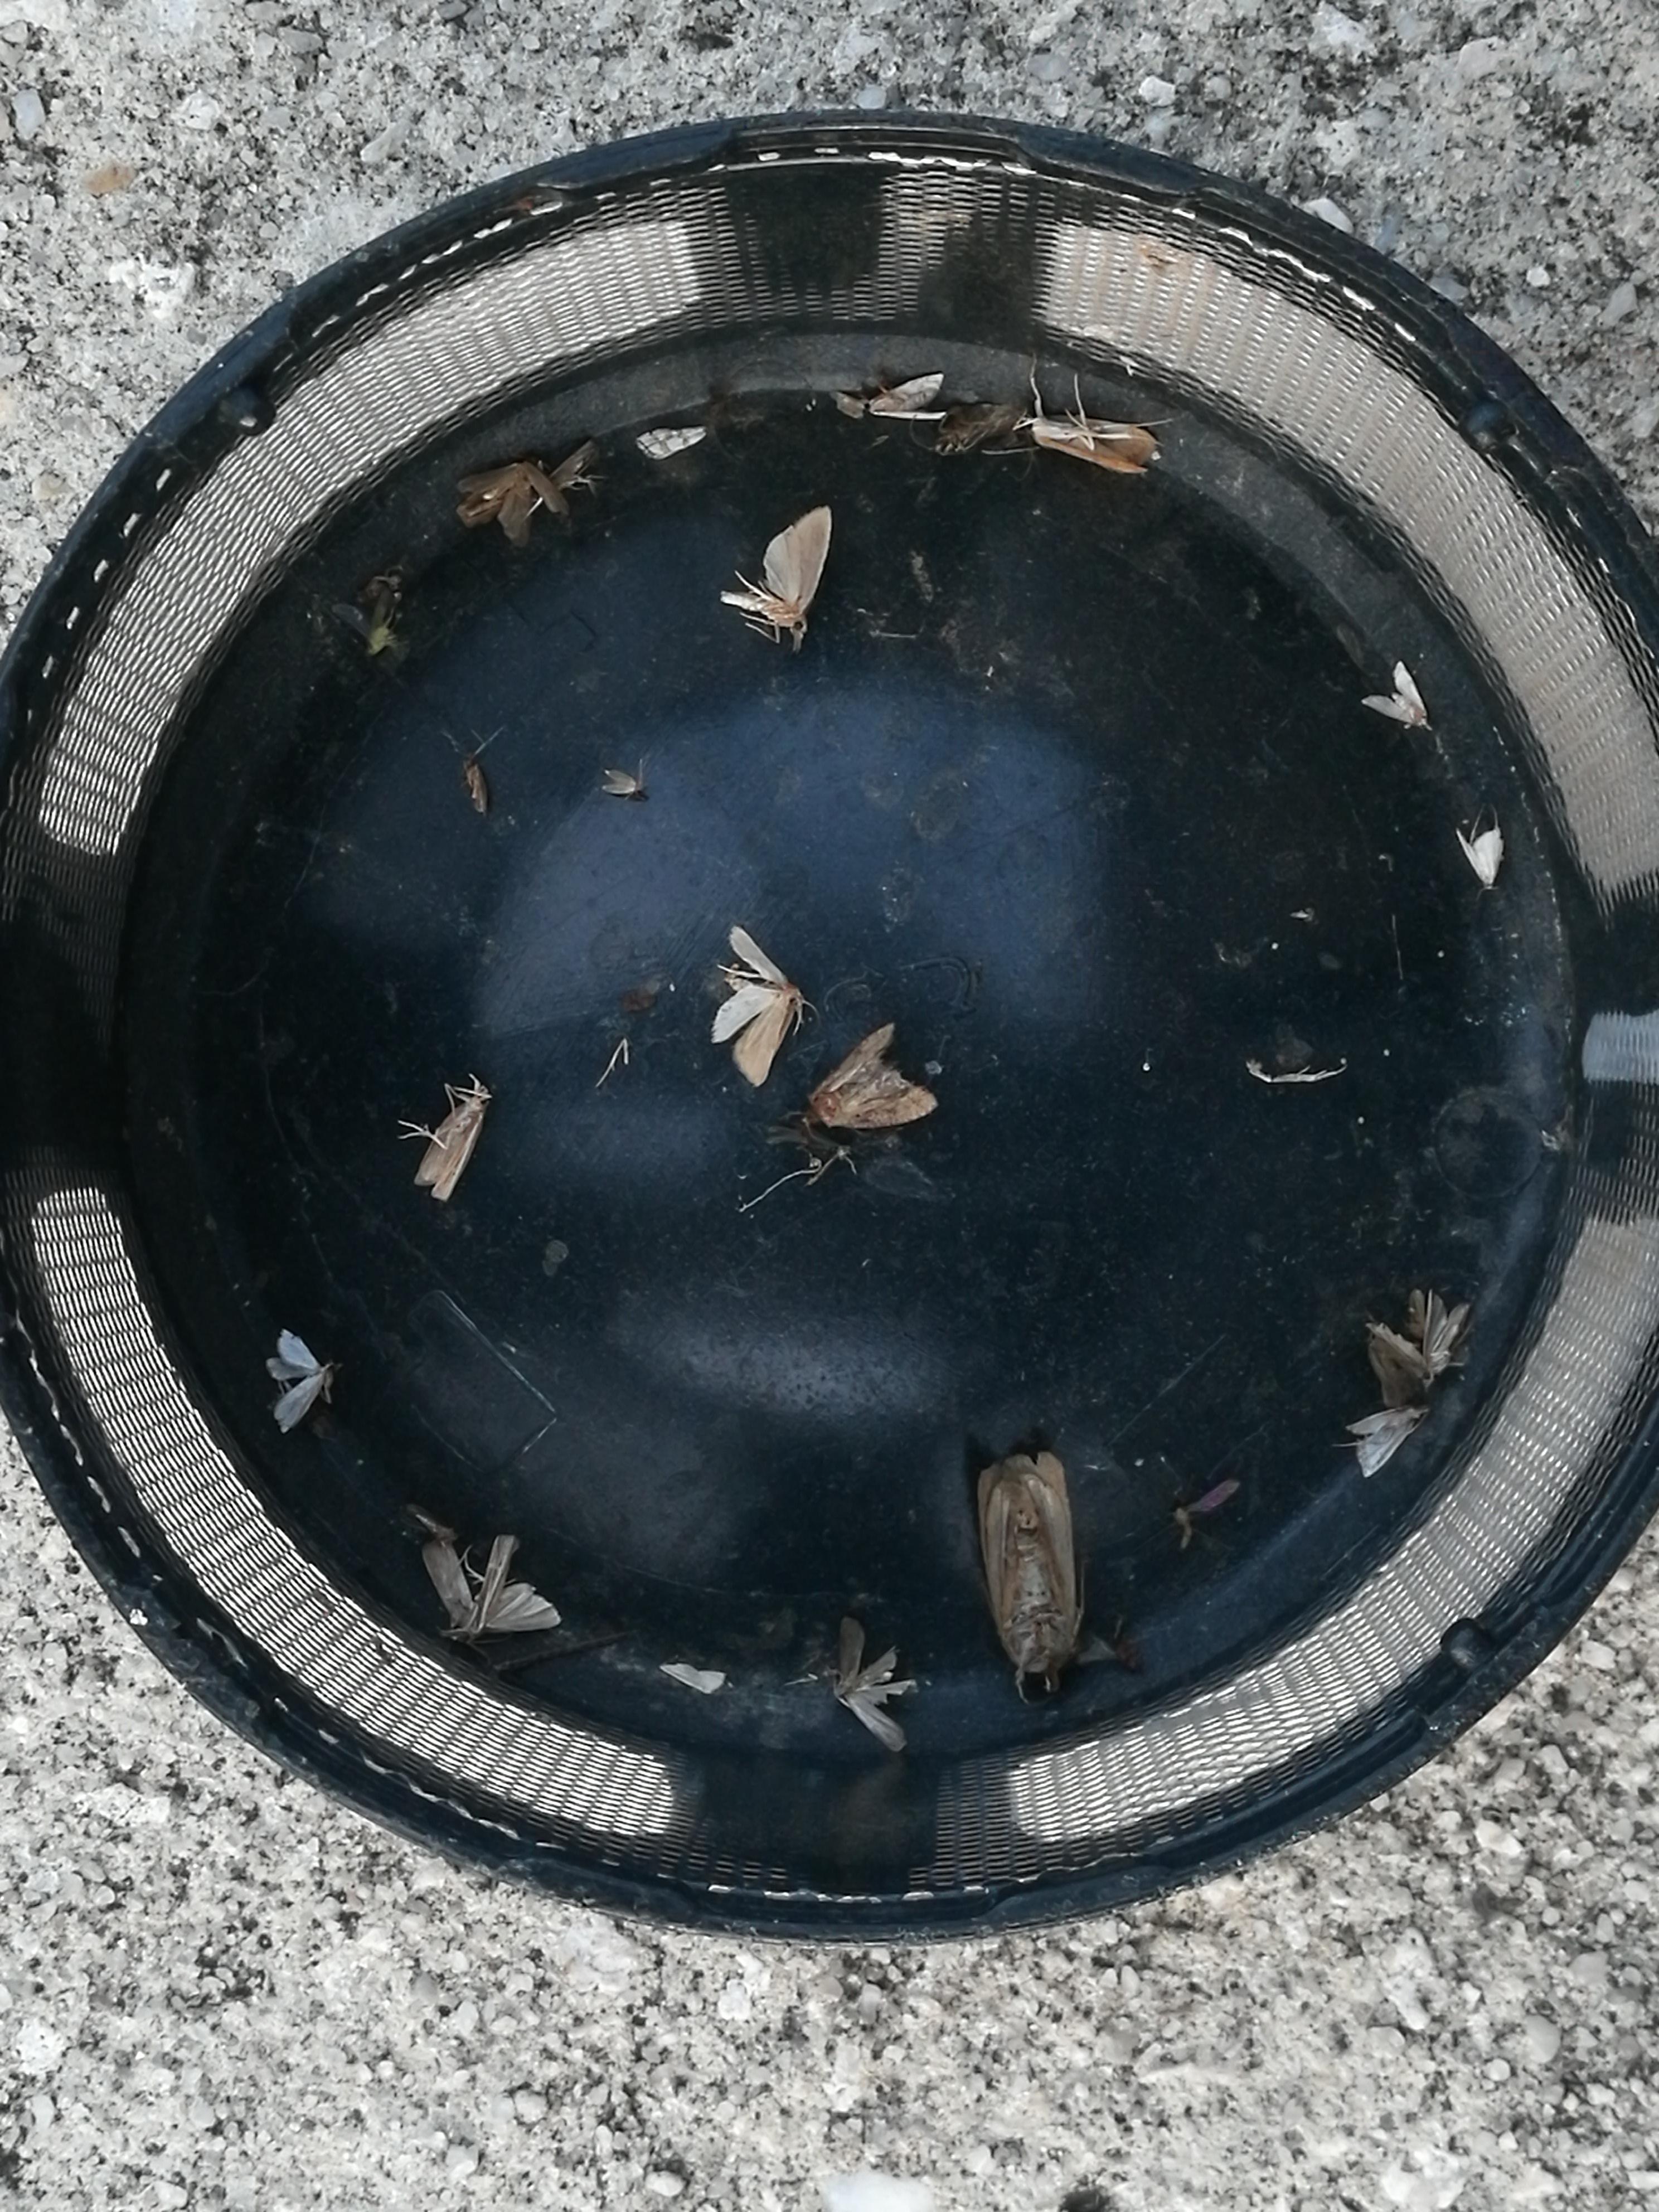mosquito: (413, 1080, 488, 1202), (1033, 415, 1155, 470)
moth: (976, 1451, 1075, 1672), (723, 509, 831, 639), (795, 1028, 932, 1129), (420, 1538, 559, 1634), (714, 930, 800, 1085), (840, 1622, 920, 1745), (464, 460, 570, 549), (265, 1329, 331, 1433), (1345, 1407, 1425, 1479), (1363, 665, 1424, 726), (871, 374, 946, 420), (1457, 834, 1500, 885), (599, 770, 645, 796)
